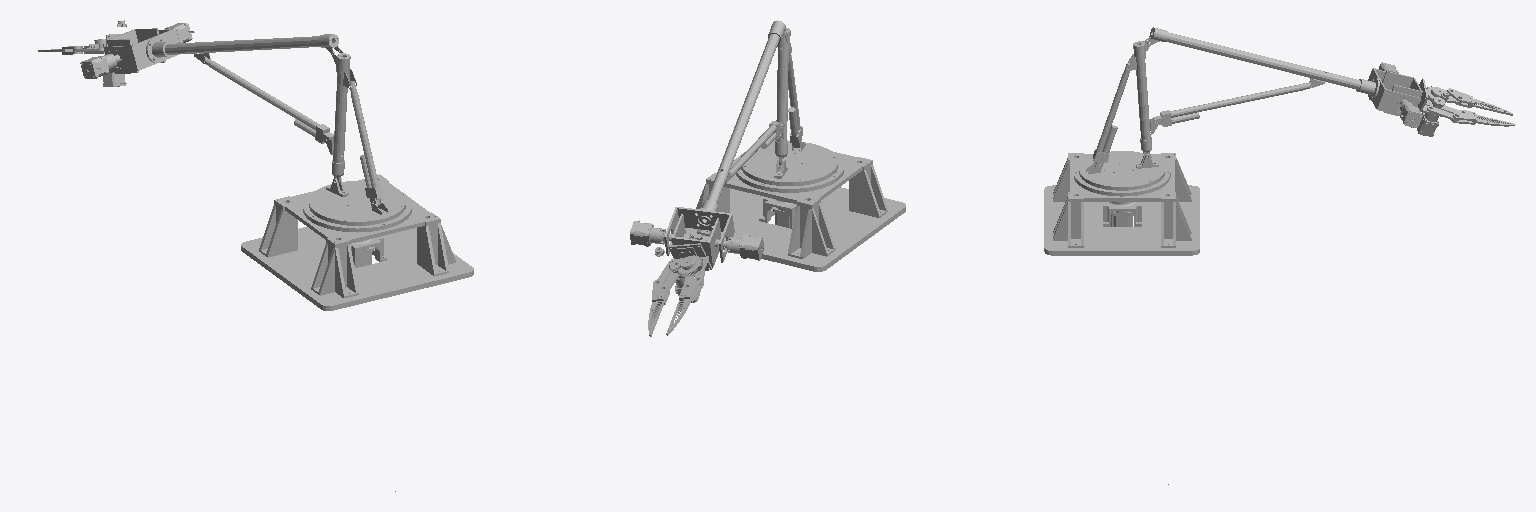
URDF robot description (arm_2026_final):
<?xml version="1.0" encoding="utf-8"?>
<robot name="arm_2026_final">

  <link name="base_link">
    <visual>
      <origin xyz="0 0 0" rpy="0 0 0" />
      <geometry>
        <mesh filename="package://arm_2026/meshes/base_link.STL" />
      </geometry>
      <material name="">
        <color rgba="0.75294 0.75294 0.75294 1" />
      </material>
    </visual>
    <collision>
      <origin xyz="0 0 0" rpy="0 0 0" />
      <geometry>
        <mesh filename="package://arm_2026/meshes/base_link.STL" />
      </geometry>
    </collision>
  </link>

  <!-- New rotating base stage -->
  <link name="base_rot_link">
    <visual>
      <origin xyz="0 0 0" rpy="0 0 0" />
      <geometry>
        <box size="0.001 0.001 0.001" />
      </geometry>
    </visual>
  </link>

  <joint name="base_yaw" type="revolute">
    <origin xyz="0 0 0" rpy="0 0 0" />
    <parent link="base_link" />
    <child link="base_rot_link" />
    <axis xyz="0 0 1" />
    <limit lower="-3.14" upper="3.14" effort="10" velocity="1.0" />
  </joint>

  <link name="link_1">
    <visual>
      <origin xyz="0 0 0" rpy="0 0 0" />
      <geometry>
        <mesh filename="package://arm_2026/meshes/link_1.STL" />
      </geometry>
      <material name="">
        <color rgba="0.75294 0.75294 0.75294 1" />
      </material>
    </visual>
    <collision>
      <origin xyz="0 0 0" rpy="0 0 0" />
      <geometry>
        <mesh filename="package://arm_2026/meshes/link_1.STL" />
      </geometry>
    </collision>
  </link>

  <joint name="shoulder" type="revolute">
    <origin xyz="0 0 0" rpy="1.5708 0 0" />
    <parent link="base_rot_link" />
    <child link="link_1" />
    <axis xyz="1 0 0" />
    <limit lower="-1.57" upper="1.57" effort="10" velocity="1.0" />
  </joint>

  <link name="link_2">
    <visual>
      <origin xyz="0 0 0" rpy="0 0 0" />
      <geometry>
        <mesh filename="package://arm_2026/meshes/link_2.STL" />
      </geometry>
      <material name="">
        <color rgba="0.75294 0.75294 0.75294 1" />
      </material>
    </visual>
    <collision>
      <origin xyz="0 0 0" rpy="0 0 0" />
      <geometry>
        <mesh filename="package://arm_2026/meshes/link_2.STL" />
      </geometry>
    </collision>
  </link>

  <joint name="elbow" type="revolute">
    <origin xyz="0 -0.16667 0" rpy="0 0 0" />
    <parent link="link_1" />
    <child link="link_2" />
    <axis xyz="1 0 0" />
    <limit lower="-1.57" upper="1.57" effort="10" velocity="1.0" />
  </joint>

  <link name="link_3">
    <visual>
      <origin xyz="0 0 0" rpy="0 0 0" />
      <geometry>
        <mesh filename="package://arm_2026/meshes/link_3.STL" />
      </geometry>
      <material name="">
        <color rgba="0.75294 0.75294 0.75294 1" />
      </material>
    </visual>
    <collision>
      <origin xyz="0 0 0" rpy="0 0 0" />
      <geometry>
        <mesh filename="package://arm_2026/meshes/link_3.STL" />
      </geometry>
    </collision>
  </link>

  <!-- Treat this as wrist_roll -->
  <joint name="wrist_roll" type="revolute">
    <origin xyz="-0.39143 1.2513 -1.1418" rpy="-1.2093 -0.23508 3.1416" />
    <parent link="link_2" />
    <child link="link_3" />
    <axis xyz="1 0 0" />
    <limit lower="-1.57" upper="1.57" effort="10" velocity="1.0" />
  </joint>

  <link name="link_4">
    <visual>
      <origin xyz="0 0 0" rpy="0 0 0" />
      <geometry>
        <mesh filename="package://arm_2026/meshes/link_4.STL" />
      </geometry>
      <material name="">
        <color rgba="0.75294 0.75294 0.75294 1" />
      </material>
    </visual>
    <collision>
      <origin xyz="0 0 0" rpy="0 0 0" />
      <geometry>
        <mesh filename="package://arm_2026/meshes/link_4.STL" />
      </geometry>
    </collision>
  </link>

  <!-- Treat this as wrist_twist -->
  <joint name="wrist_twist" type="revolute">
    <origin xyz="0 0.01 0" rpy="0 0 0" />
    <parent link="link_3" />
    <child link="link_4" />
    <axis xyz="0 1 0" />
    <limit lower="-1.57" upper="1.57" effort="10" velocity="1.0" />
  </joint>

  <link name="end_effector">
    <visual>
      <origin xyz="0 0 0" rpy="0 0 0" />
      <geometry>
        <mesh filename="package://arm_2026/meshes/end_effector.STL" />
      </geometry>
      <material name="">
        <color rgba="0.75294 0.75294 0.75294 1" />
      </material>
    </visual>
    <collision>
      <origin xyz="0 0 0" rpy="0 0 0" />
      <geometry>
        <mesh filename="package://arm_2026/meshes/end_effector.STL" />
      </geometry>
    </collision>
  </link>

  <joint name="claw" type="revolute">
    <origin xyz="0.076812 -0.083324 0.31396" rpy="-2.8831 0.018003 1.5708" />
    <parent link="link_4" />
    <child link="end_effector" />
    <axis xyz="1 0 0" />
    <limit lower="-1.0" upper="1.0" effort="10" velocity="1.0" />
  </joint>

</robot>

--- Facts derived from the render (not from the file) ---
Views: 3 orthographic renders of the robot side by side, from view 1: azimuth 30°, elevation 25°; view 2: azimuth 150°, elevation 25°; view 3: azimuth 270°, elevation 25°.
Model arm_2026_final with 7 links and 6 joints (6 revolute), rooted at base_link, posed every joint at zero.
Visible links, largest first — view 1: base_link, link_2, link_1, link_3, link_4, end_effector; view 2: base_link, end_effector, link_2, link_3, link_1, link_4; view 3: base_link, link_2, link_1, end_effector, link_3, link_4.
Link boxes in pixels (x1,y1,x2,y2): base_link: (241,174,473,310); link_2: (165,34,340,154); link_1: (326,50,388,214); link_3: (81,23,194,78); link_4: (80,24,192,78); end_effector: (38,20,126,86); base_link: (685,140,905,271); end_effector: (648,243,712,336); link_2: (700,20,785,224); link_3: (630,200,763,267); link_1: (774,28,805,178); link_4: (630,200,763,265); base_link: (1044,151,1199,255); link_2: (1146,27,1360,134); link_1: (1086,40,1158,173); end_effector: (1411,78,1515,136); link_3: (1356,62,1422,127); link_4: (1360,64,1422,127).
Bounding box of the posed robot: 0.524 × 1.21 × 1.21 m (x, y, z).
Meshes: 6 distinct files referenced, 6 mesh visuals loaded (6 binary STL).
